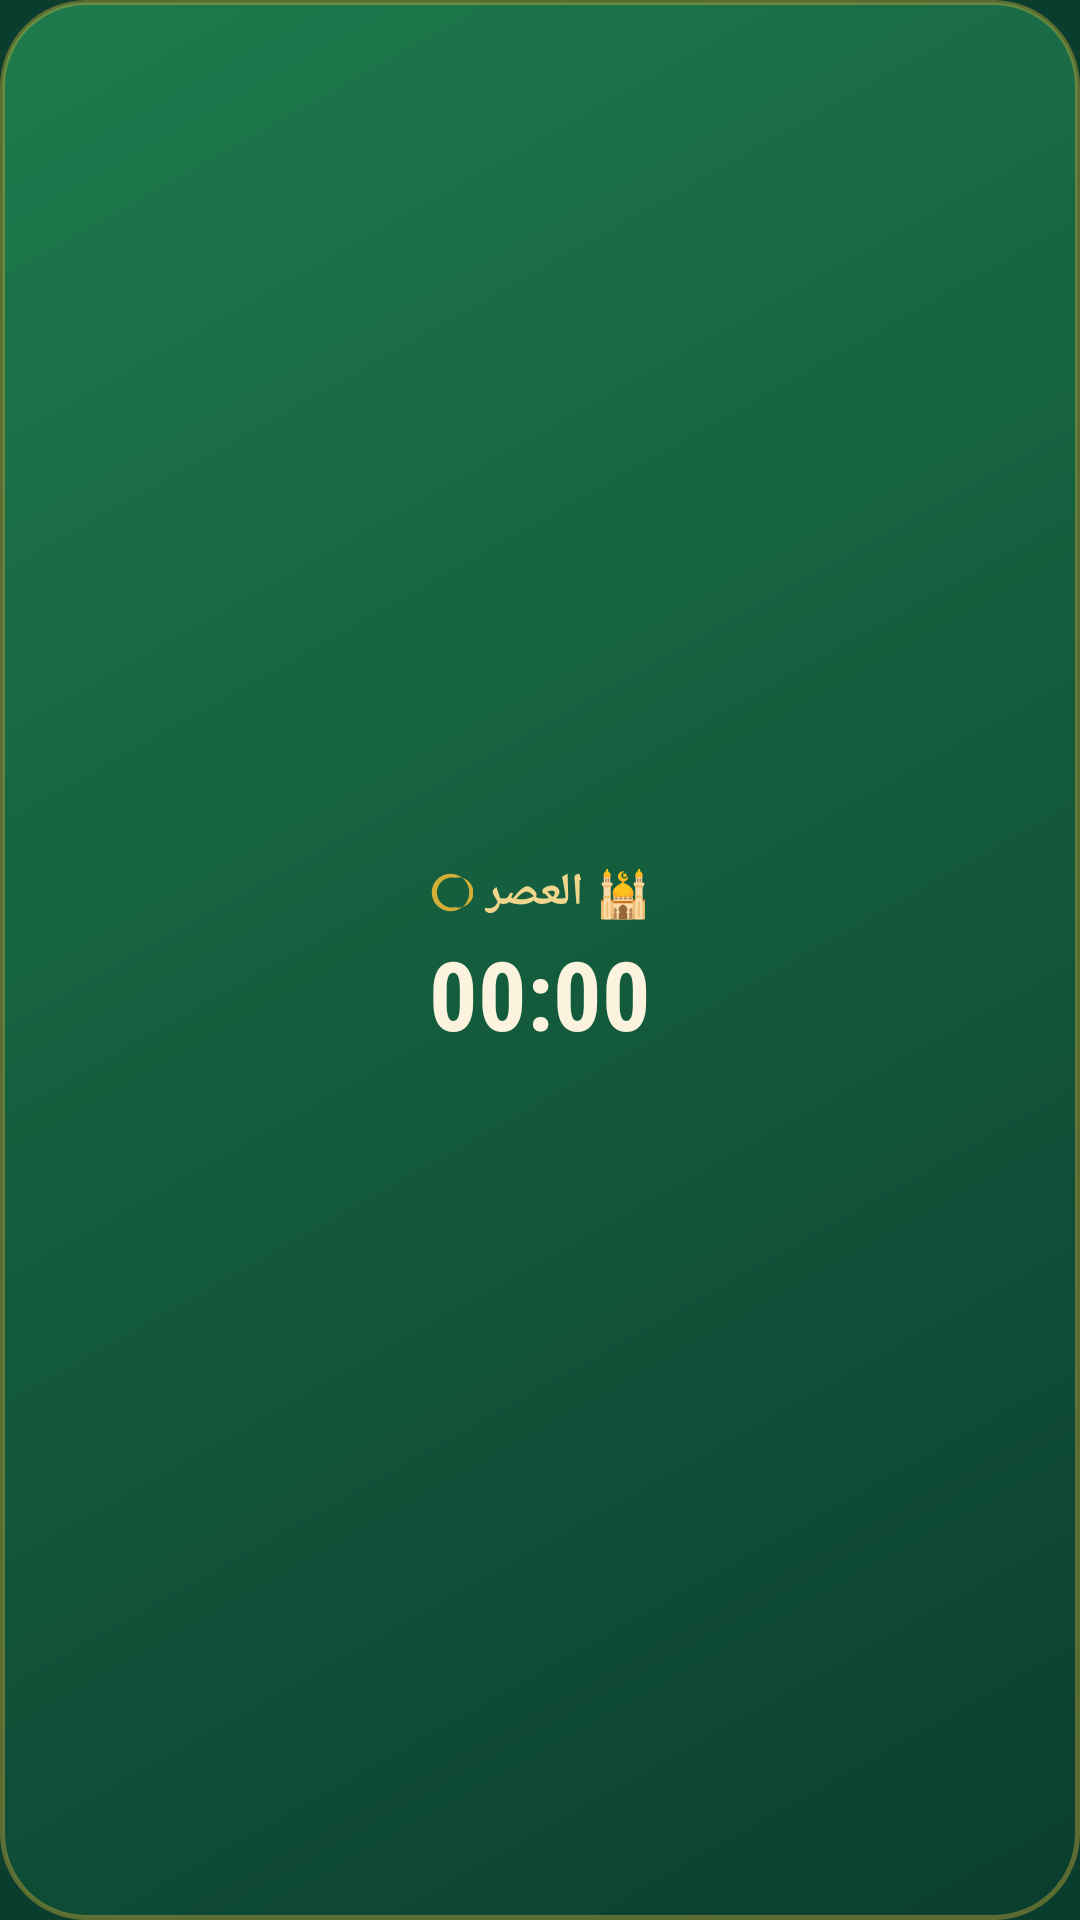

Icons on this 1080×1920 Android screen, each with its box as (x1,y1,x2,y2):
crescent: (431,873,473,912)
